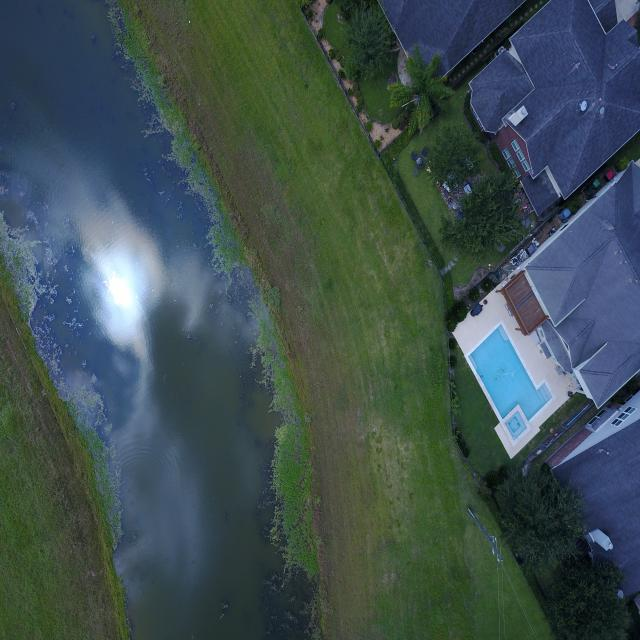fire: (0, 1, 308, 639)
